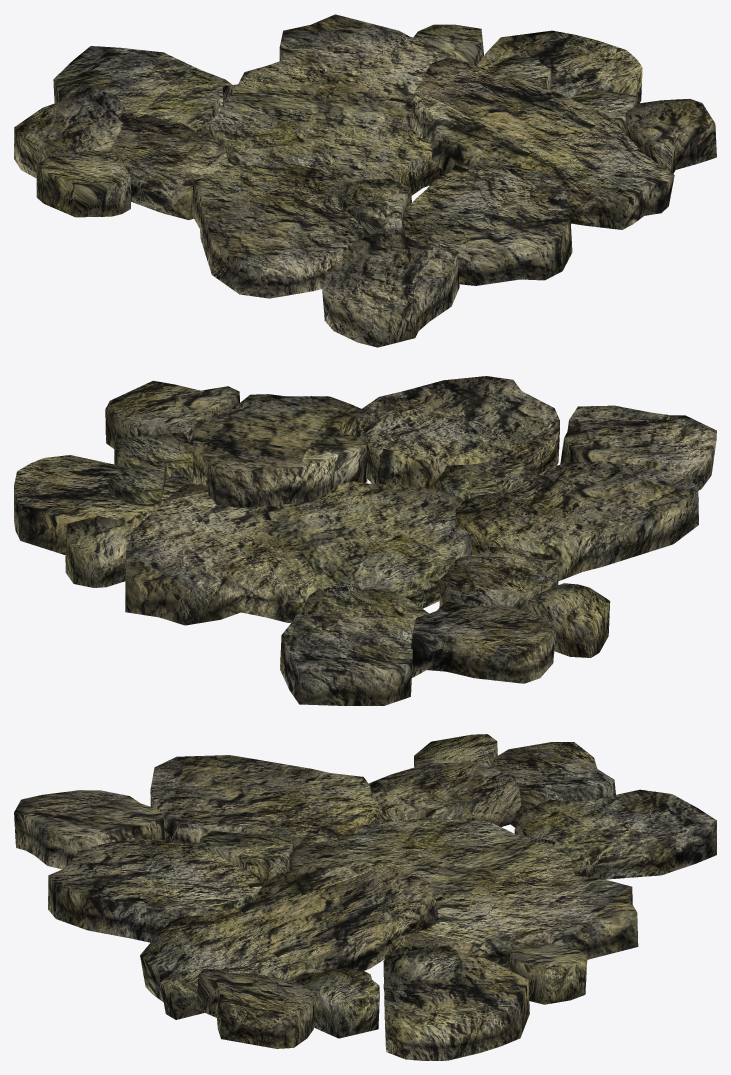
3 views of the same model, one above another, from view 1: azimuth 30°, elevation 25°; view 2: azimuth 150°, elevation 25°; view 3: azimuth 270°, elevation 25° (orthographic). The views are drawn at different scales.
Parts seen in each view (by area): view 1: polySurface447:polySurface447_0; view 2: polySurface447:polySurface447_0; view 3: polySurface447:polySurface447_0.
Boxes of the visible parts, x1,y1,x2,y2 form: polySurface447:polySurface447_0: [14, 14, 716, 347]; polySurface447:polySurface447_0: [14, 376, 716, 705]; polySurface447:polySurface447_0: [14, 734, 716, 1060].
Size of the model in its own units: 31.75 by 4.27 by 33.23.
Materials: 1 (1 with a texture image).
